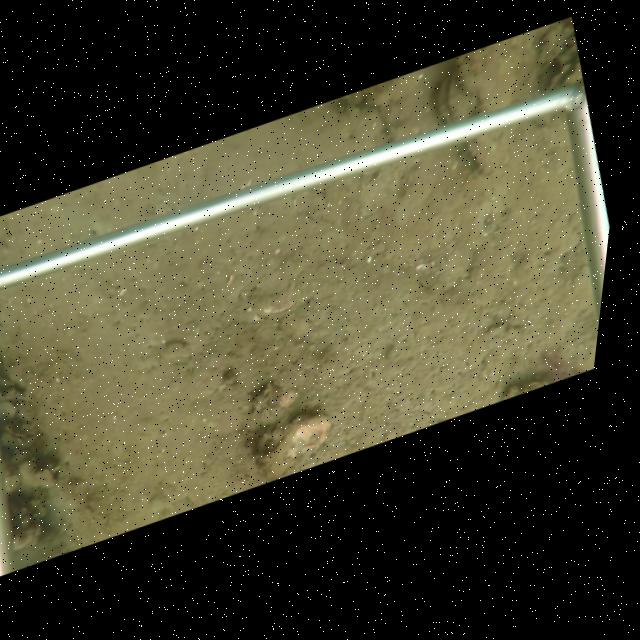Oyster-Indeterminate: (252, 410, 333, 480)
Oyster-Open: (434, 69, 479, 125), (544, 59, 582, 93), (0, 422, 41, 449)
